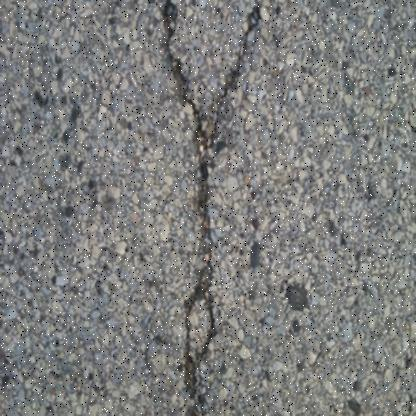Cracks: (162, 0, 264, 416)
